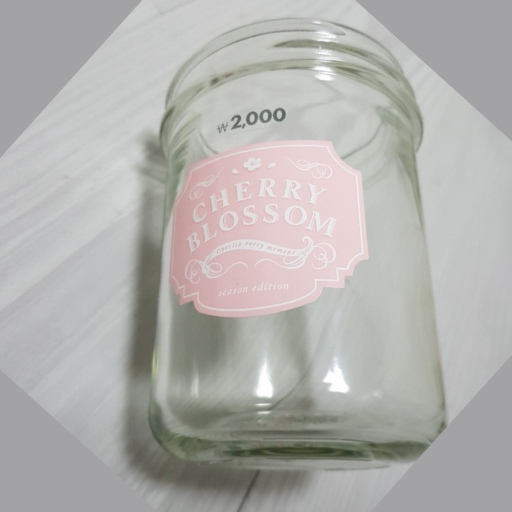Glass_5: (155, 18, 444, 463)
